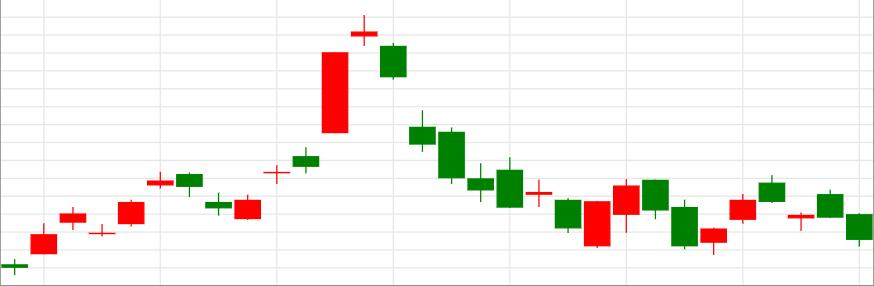evening_star_fall: (234, 15, 406, 221)
